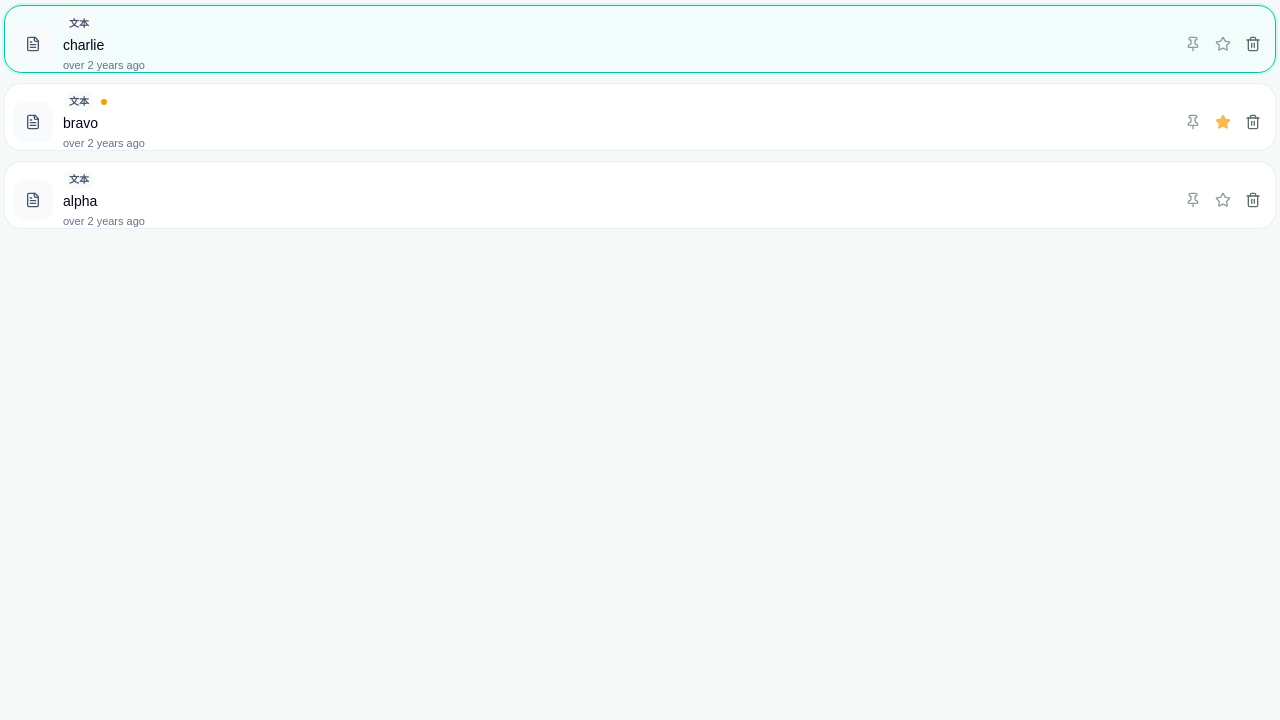
it: ClipboardList › opens a compact text edit dialog with only save actions
Right-click the button "alpha" at (33, 200), box [4,161,1276,229]
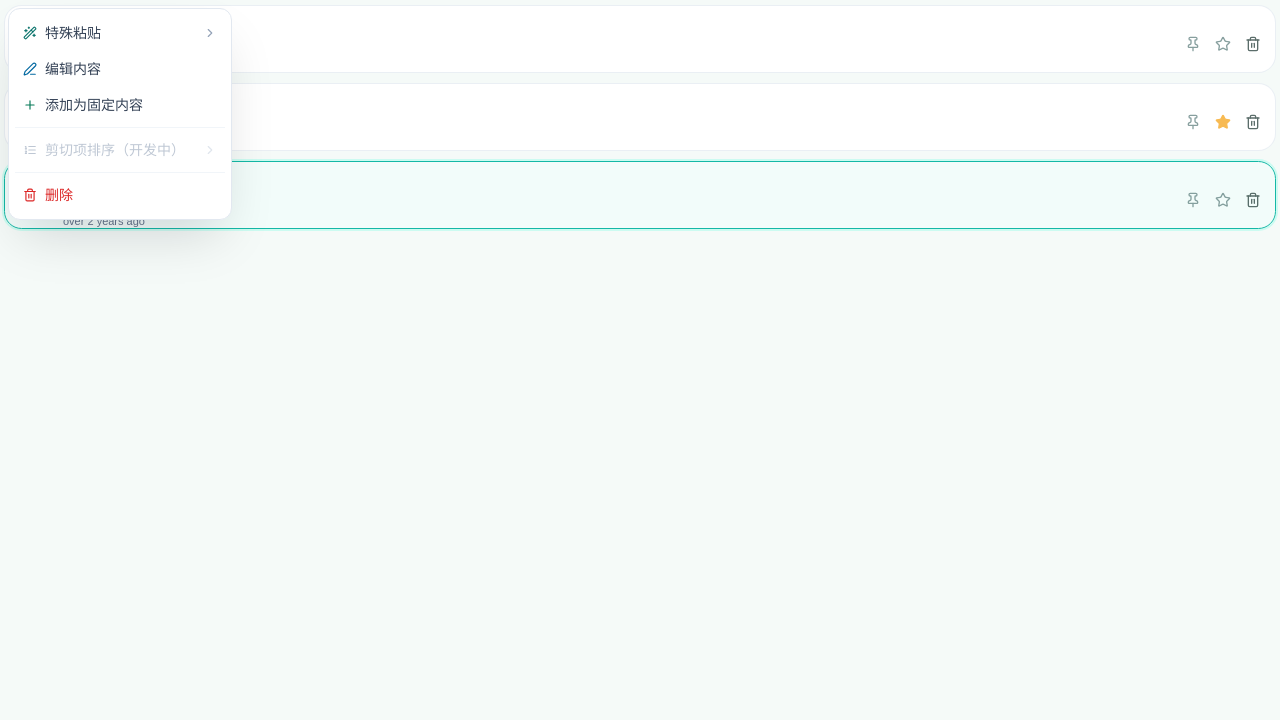
Click the menu item "编辑内容" at (120, 69), box [15,51,225,87]
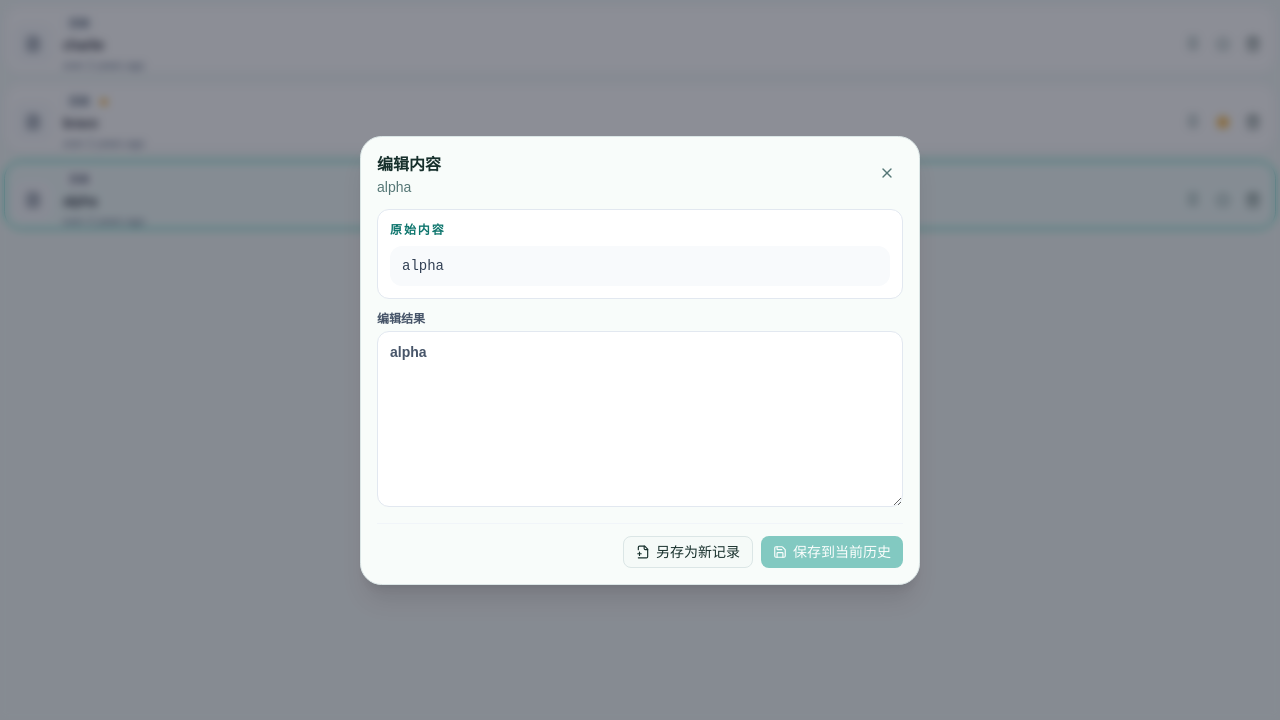
Now the button "保存到当前历史" is shown, box [761,536,903,568]
Now the button "另存为新记录" is shown, box [623,536,753,568]
Now the menu item "添加为固定内容" is gone
